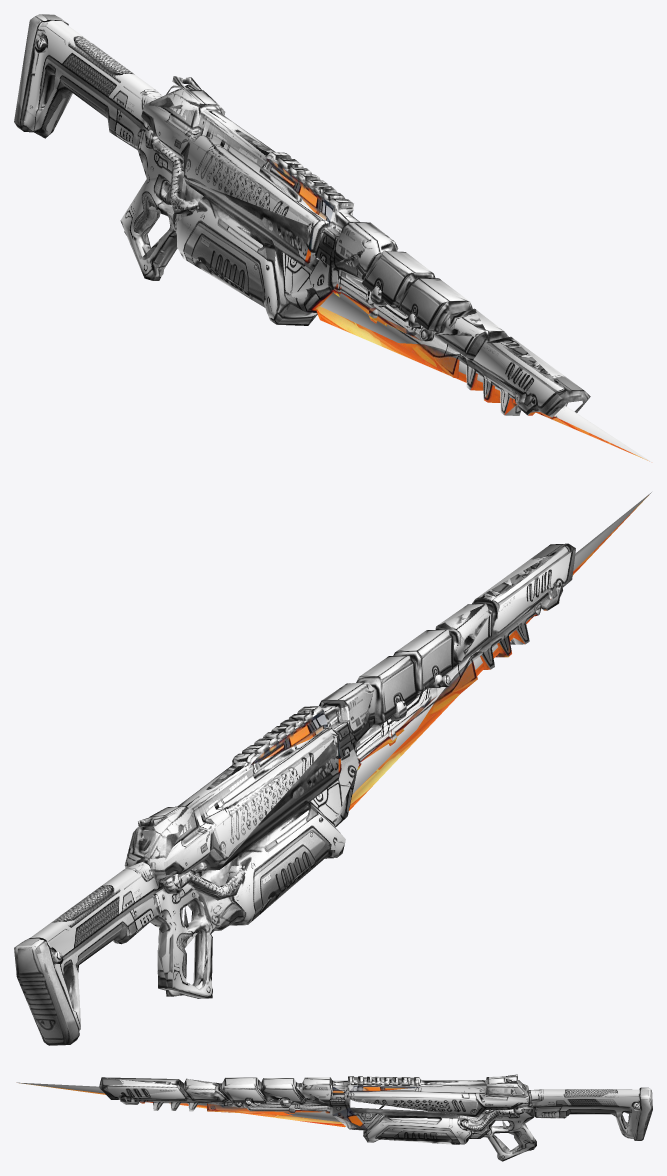
3 views of the same model, one above another, from view 1: azimuth 30°, elevation 25°; view 2: azimuth 150°, elevation 25°; view 3: azimuth 270°, elevation 25° (orthographic). The views are drawn at different scales.
Parts seen in each view (by area): view 1: gun; view 2: gun; view 3: gun.
Boxes of the visible parts, <box> form: gun: <box>14,14,651,462</box>; gun: <box>14,492,651,1045</box>; gun: <box>16,1074,652,1161</box>.
Size of the model in its own units: 0.1436 by 0.3609 by 2.21.
Materials: 5 (5 with a texture image).
